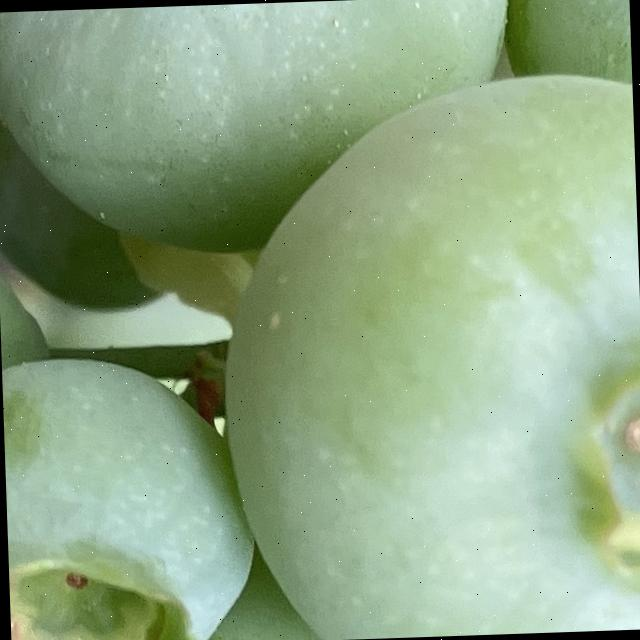Blueberries: (214, 68, 640, 640), (0, 0, 527, 243), (0, 333, 269, 640)
